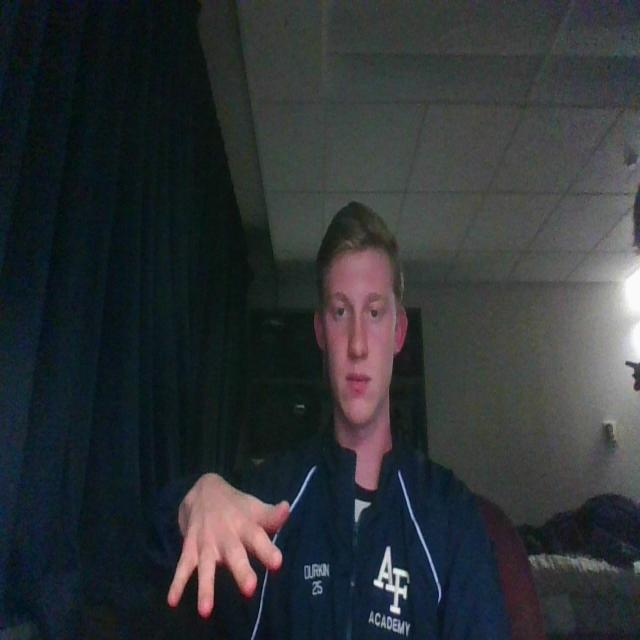paper: (160, 458, 300, 624)
